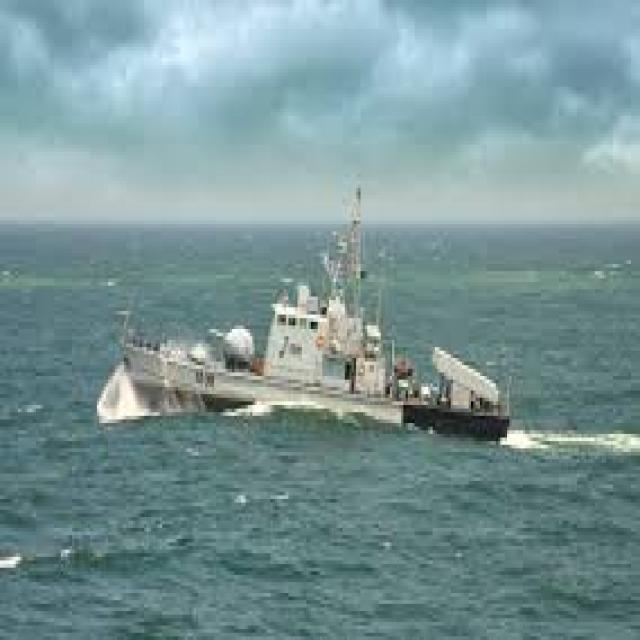navalvessels: (99, 205, 512, 435)
